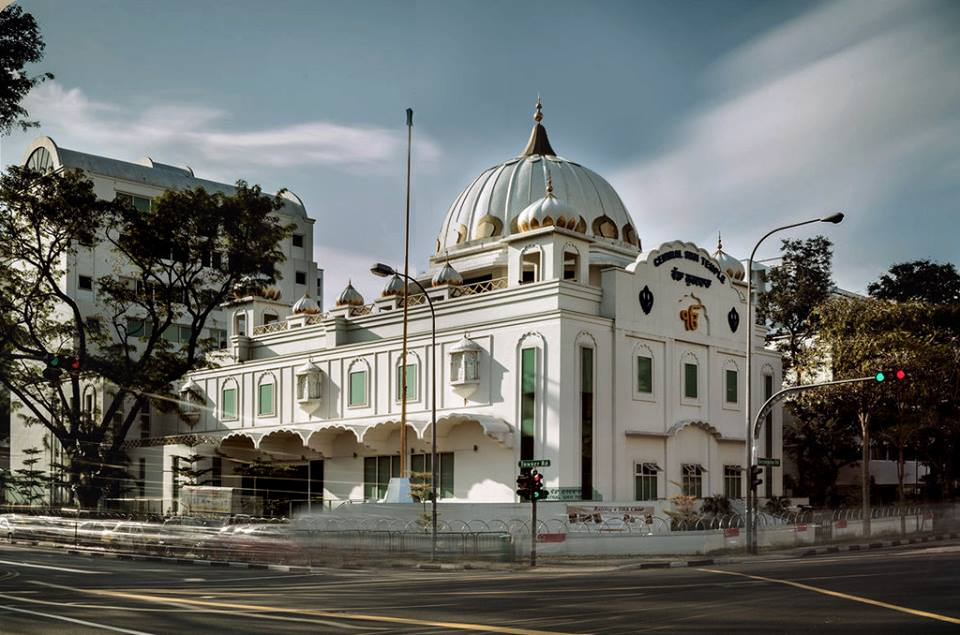Gurdwara: (32, 97, 781, 544)
